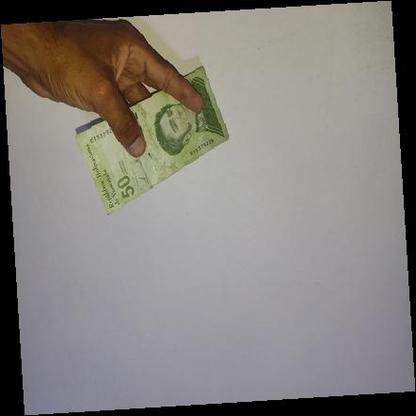vef_front: (74, 64, 230, 217)
